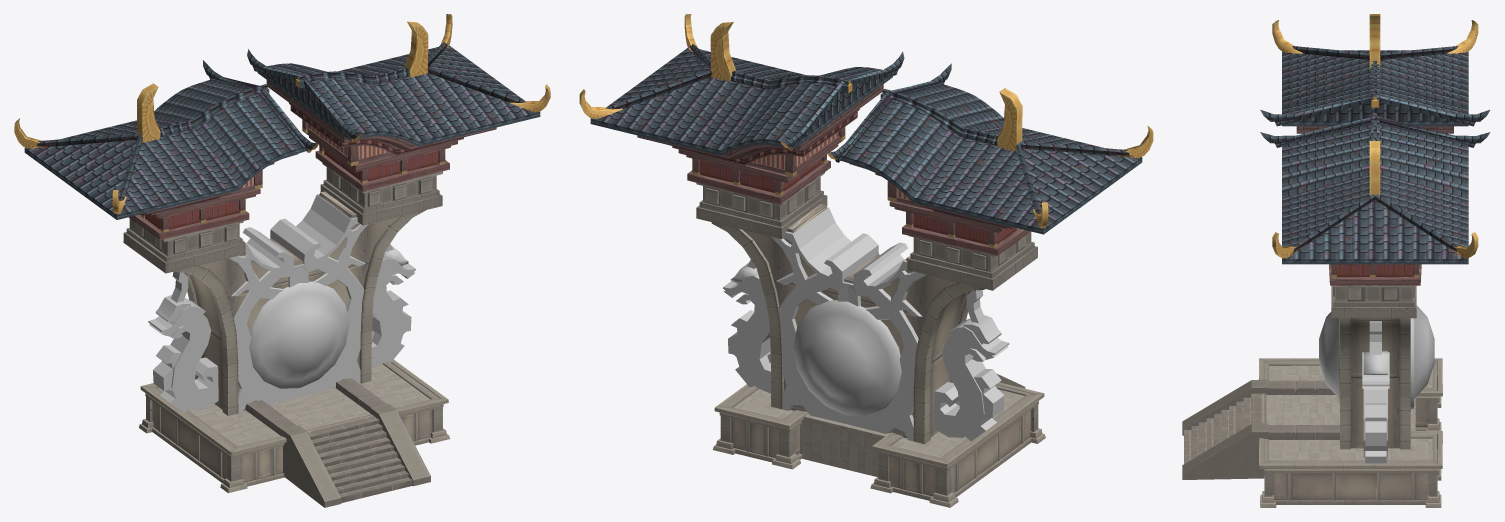
File: mod_zlc_jianzhu002_xy.FBX
The picture shows the model from 3 angles, left to right: view 1: azimuth 30°, elevation 25°; view 2: azimuth 150°, elevation 25°; view 3: azimuth 270°, elevation 25°; orthographic projection. The views are drawn at different scales.
Parts seen in each view (by area): view 1: mod_zlc_jianzhu002_xy; view 2: mod_zlc_jianzhu002_xy; view 3: mod_zlc_jianzhu002_xy.
Boxes of the visible parts, bbox=[...] form: mod_zlc_jianzhu002_xy: bbox=[14, 14, 550, 507]; mod_zlc_jianzhu002_xy: bbox=[579, 14, 1153, 507]; mod_zlc_jianzhu002_xy: bbox=[1182, 14, 1490, 507].
Bounding box in the file's own units: 1740 × 1408 × 1047.
